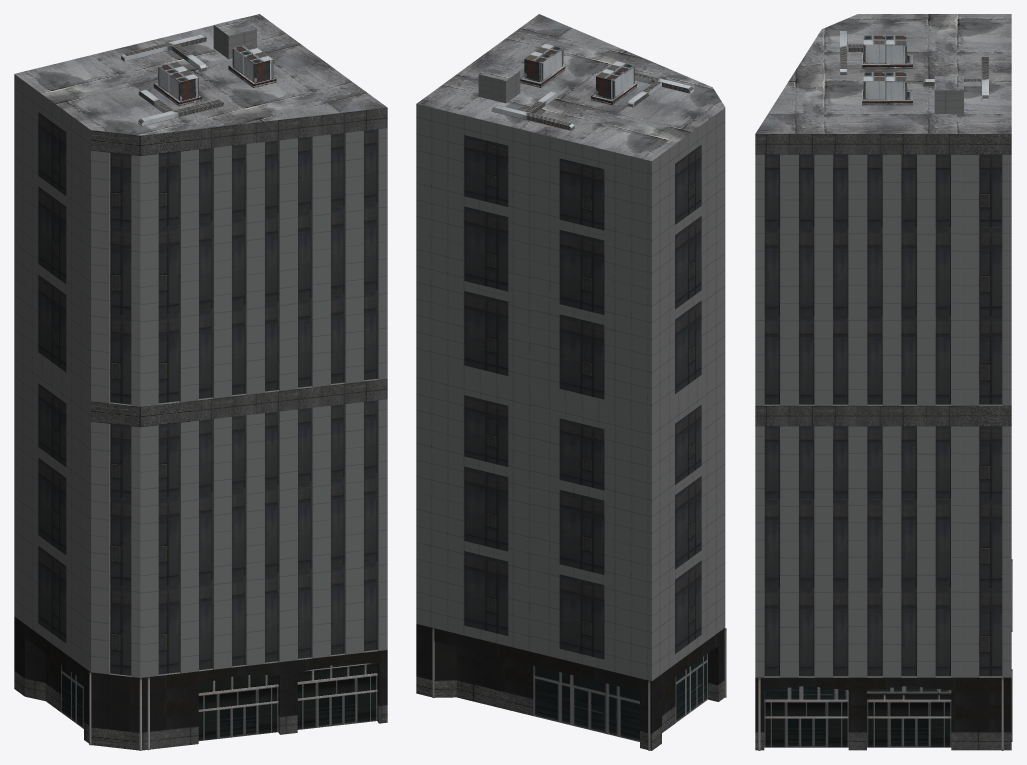
The model's file is office1b.glb.
The picture shows the model from 3 angles, left to right: view 1: azimuth 30°, elevation 25°; view 2: azimuth 150°, elevation 25°; view 3: azimuth 270°, elevation 25°; orthographic projection. The views are drawn at different scales.
Parts seen in each view (by area): view 1: office1b; view 2: office1b; view 3: office1b.
Boxes of the visible parts, left/top/right/bottom form: office1b: left=14, top=14, right=387, bottom=750; office1b: left=416, top=14, right=726, bottom=750; office1b: left=755, top=14, right=1012, bottom=750.
Size of the model in its own units: 26.17 by 64.44 by 23.51.
Materials: 3 (3 with a texture image).
